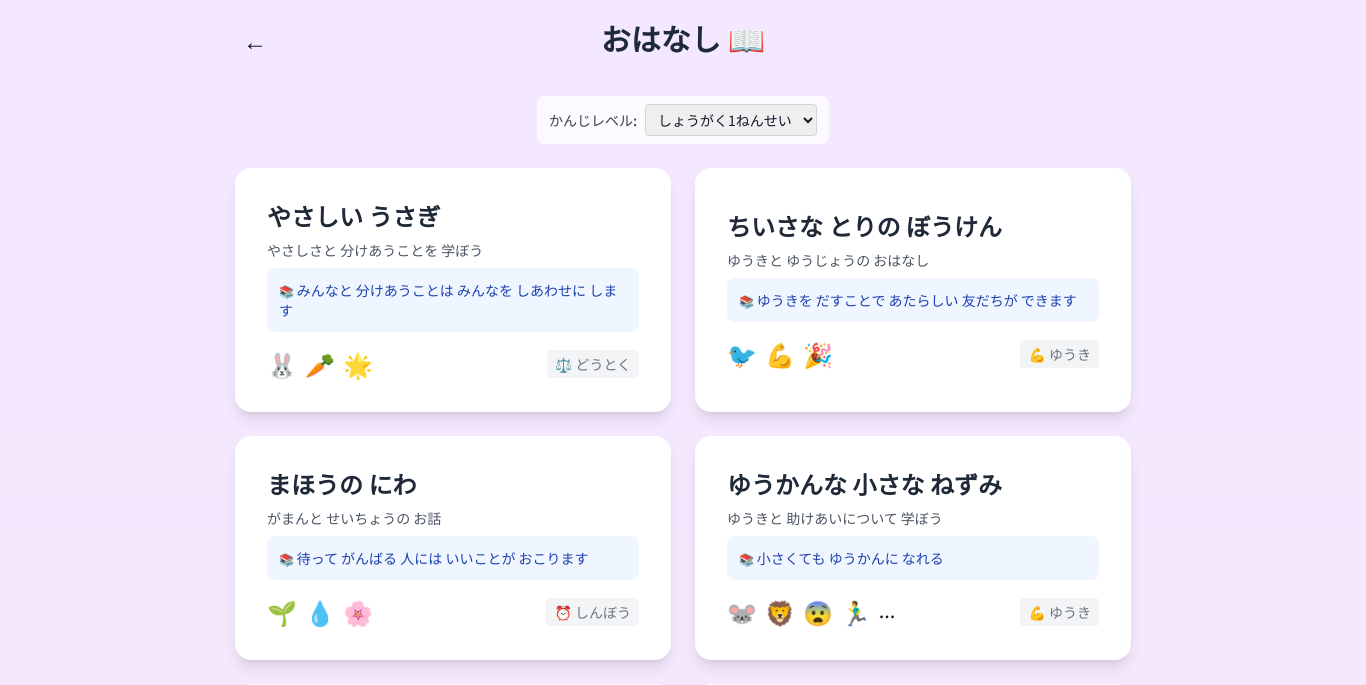
StoryPage › 戻るボタンでストーリー一覧に戻る
This screenshot has width=1366, height=685.
Note: ストーリーを選択
Click the heading "やさしい うさぎ".
click(354, 216)  # box [267, 198, 440, 233]
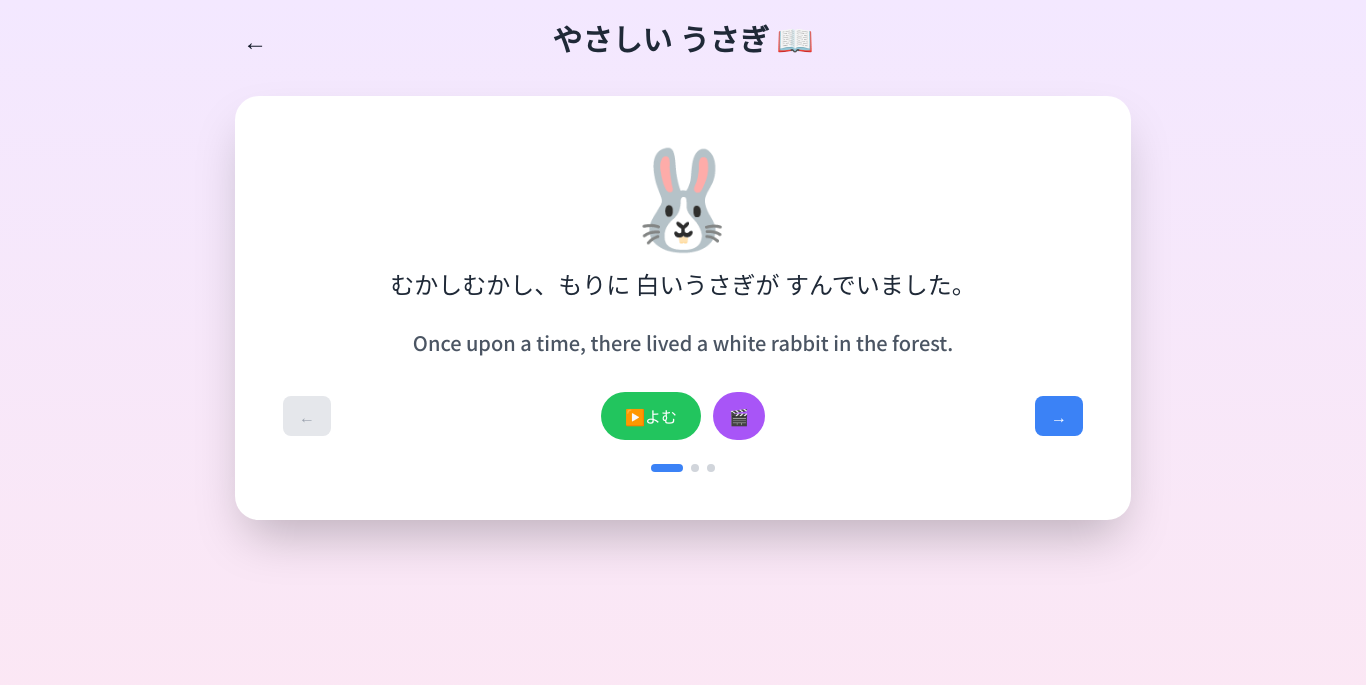
Click the button named "Back".
click(255, 40)  # box [235, 16, 275, 64]
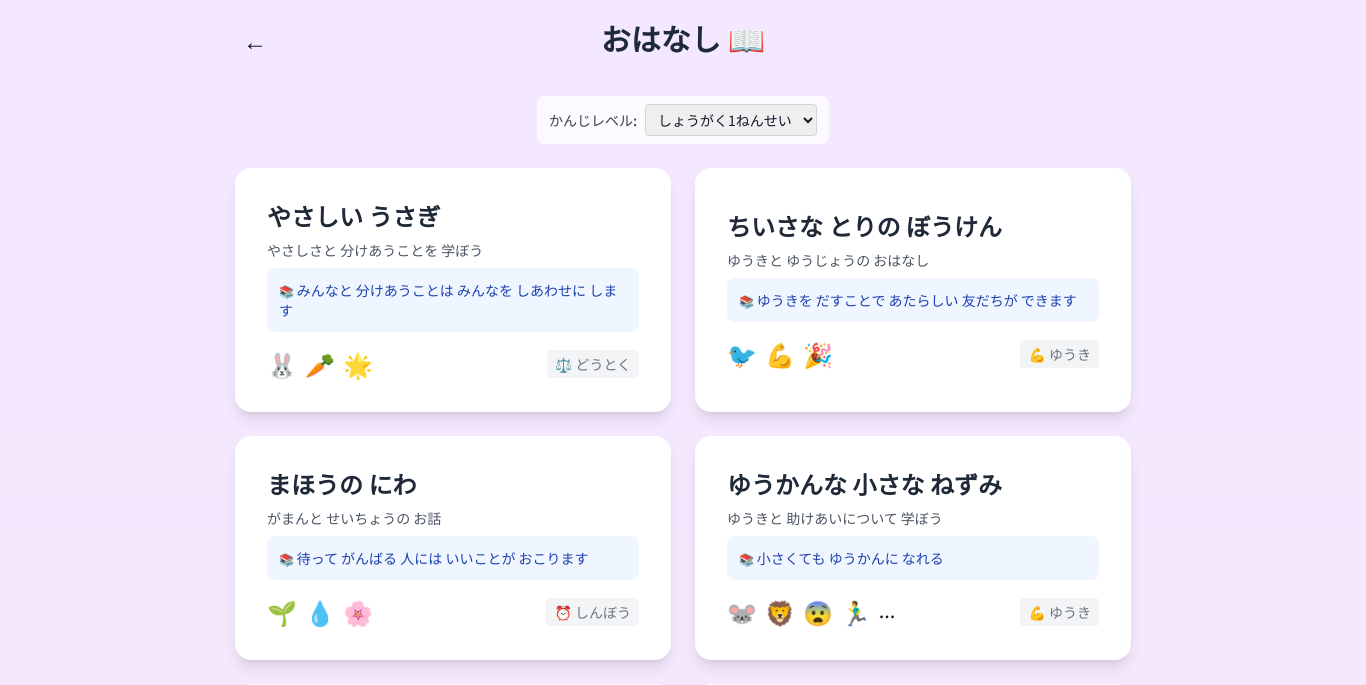
Check: the heading "やさしい うさぎ" is shown, box [267, 198, 440, 233]
Check: the heading "まほうの にわ" is shown, box [267, 466, 416, 501]
